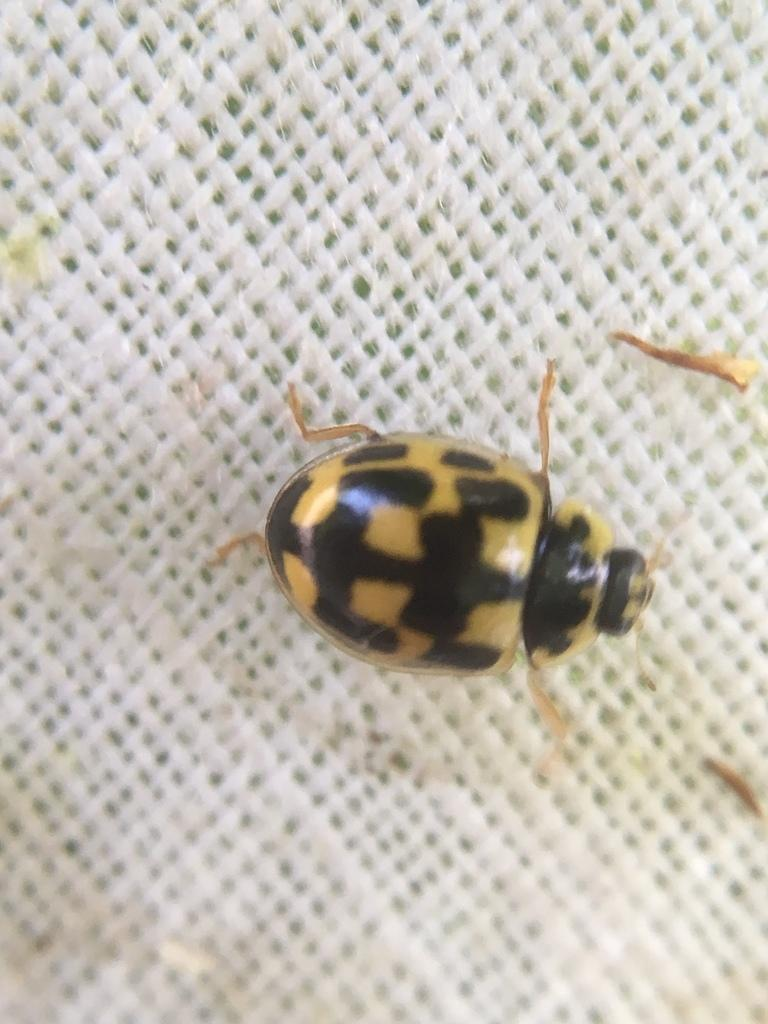ladybug: (209, 356, 664, 744)
